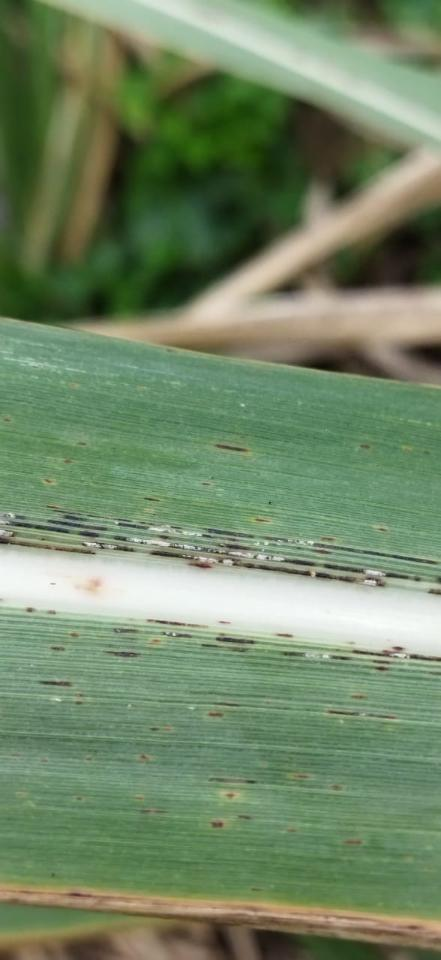RedRot: (74, 575, 104, 596)
Rust: (147, 549, 387, 590), (115, 534, 317, 567), (262, 535, 440, 566), (114, 521, 239, 543), (52, 510, 183, 529), (0, 538, 99, 558), (323, 563, 410, 580), (350, 648, 440, 664), (0, 517, 71, 536), (46, 519, 108, 533), (281, 650, 351, 662), (145, 617, 209, 630), (326, 710, 397, 721), (201, 526, 255, 539), (80, 541, 135, 553), (207, 773, 257, 786), (213, 440, 249, 457), (201, 642, 249, 653), (102, 648, 142, 659), (216, 636, 257, 645), (37, 679, 72, 689), (161, 630, 193, 640), (215, 544, 256, 551), (113, 627, 140, 637), (188, 562, 212, 571), (142, 807, 168, 815), (311, 547, 334, 556), (291, 772, 313, 781), (77, 530, 101, 538), (62, 515, 88, 522), (149, 726, 175, 733), (213, 701, 239, 708), (343, 837, 363, 846), (275, 631, 294, 640), (1, 514, 29, 520), (235, 813, 253, 822), (209, 819, 225, 829), (50, 645, 68, 653), (358, 441, 372, 451), (0, 530, 17, 538), (22, 604, 37, 613), (350, 693, 369, 700), (253, 517, 271, 524), (322, 534, 337, 542), (428, 586, 440, 596), (372, 659, 391, 665), (43, 608, 57, 616), (374, 665, 390, 672), (225, 791, 236, 801), (207, 711, 225, 717), (329, 783, 341, 792), (139, 753, 152, 761), (251, 886, 265, 893), (143, 498, 161, 503), (286, 825, 296, 834), (73, 692, 85, 699), (68, 632, 80, 639), (157, 534, 170, 540), (219, 619, 232, 625), (132, 794, 144, 800), (84, 755, 93, 763), (392, 646, 406, 651), (378, 527, 389, 533), (150, 637, 161, 643), (43, 479, 54, 485), (9, 753, 22, 758), (49, 871, 58, 878), (74, 700, 84, 706), (45, 505, 59, 509), (75, 795, 83, 802), (63, 459, 74, 464), (40, 757, 49, 763), (414, 576, 422, 582), (202, 482, 211, 487), (77, 442, 87, 446), (3, 418, 11, 422), (218, 632, 226, 636)
Yellow: (0, 884, 440, 951)
